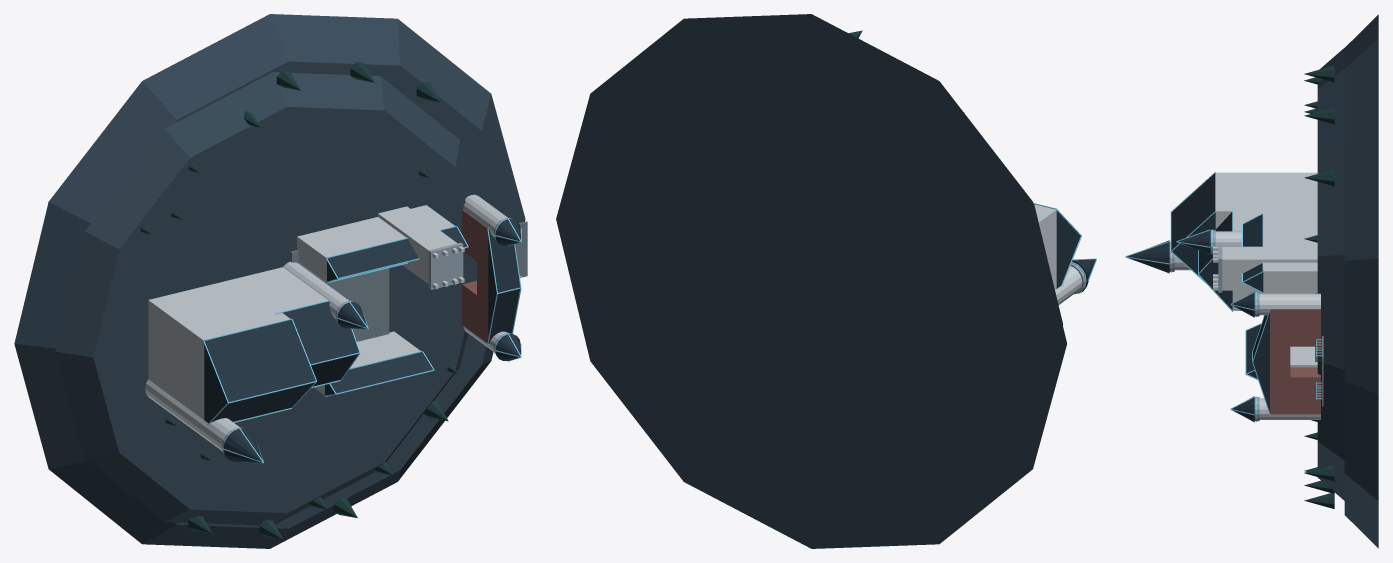
The model's file is castle.obj.
3 renders of one model, left to right at view 1: azimuth 30°, elevation 25°; view 2: azimuth 150°, elevation 25°; view 3: azimuth 270°, elevation 25°, orthographic. The views are drawn at different scales.
Parts seen in each view (by area): view 1: rock_upper, rock_lower, palas_west, palas_west_roof, knights_house, palas_east_roof, upper_court, gate_roof, palas_east, knights_house_roof, square_tower, bower_roof (+8 smaller); view 2: rock_lower, palas_west_roof, palas_west; view 3: rock_lower, rock_upper, palas_west, knights_house, palas_west_roof, square_tower, gate_left, gate_right, gate_tower_17, palas_east, gate_roof, knights_house_roof (+9 smaller).
Part boxes in pixels (<box>): rock_upper: <box>55,72,476,525</box>; rock_lower: <box>14,14,525,548</box>; palas_west: <box>148,280,289,419</box>; palas_west_roof: <box>204,320,315,422</box>; knights_house: <box>297,205,454,281</box>; palas_east_roof: <box>283,301,358,386</box>; upper_court: <box>290,250,389,341</box>; gate_roof: <box>488,229,519,343</box>; palas_east: <box>229,267,327,313</box>; knights_house_roof: <box>327,227,467,281</box>; square_tower: <box>378,206,457,283</box>; bower_roof: <box>325,352,432,395</box>; rock_lower: <box>556,14,1066,548</box>; palas_west_roof: <box>1056,210,1080,288</box>; palas_west: <box>1034,204,1056,289</box>; rock_lower: <box>1344,14,1378,548</box>; rock_upper: <box>1317,48,1344,500</box>; palas_west: <box>1215,172,1317,229</box>; knights_house: <box>1263,214,1317,292</box>; palas_west_roof: <box>1171,173,1215,275</box>; square_tower: <box>1222,246,1317,290</box>; gate_left: <box>1270,367,1320,414</box>; gate_right: <box>1270,309,1320,346</box>; gate_tower_17: <box>1259,293,1320,315</box>; palas_east: <box>1232,208,1317,310</box>; gate_roof: <box>1253,312,1269,412</box>; knights_house_roof: <box>1243,214,1263,292</box>.
Size of the model in its own units: 158 by 158 by 74.59.
